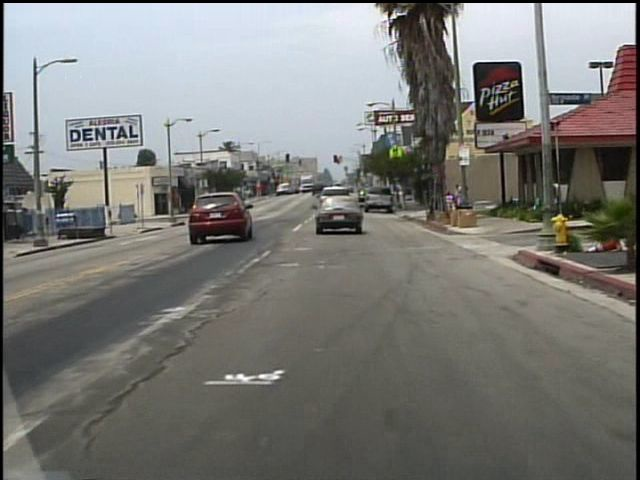person: (459, 182, 468, 210), (453, 185, 461, 208)
